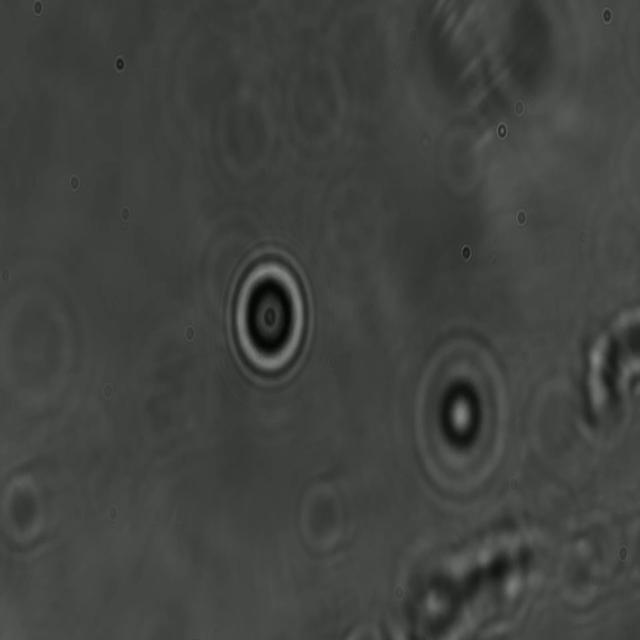LCELL: (222, 246, 314, 395)
